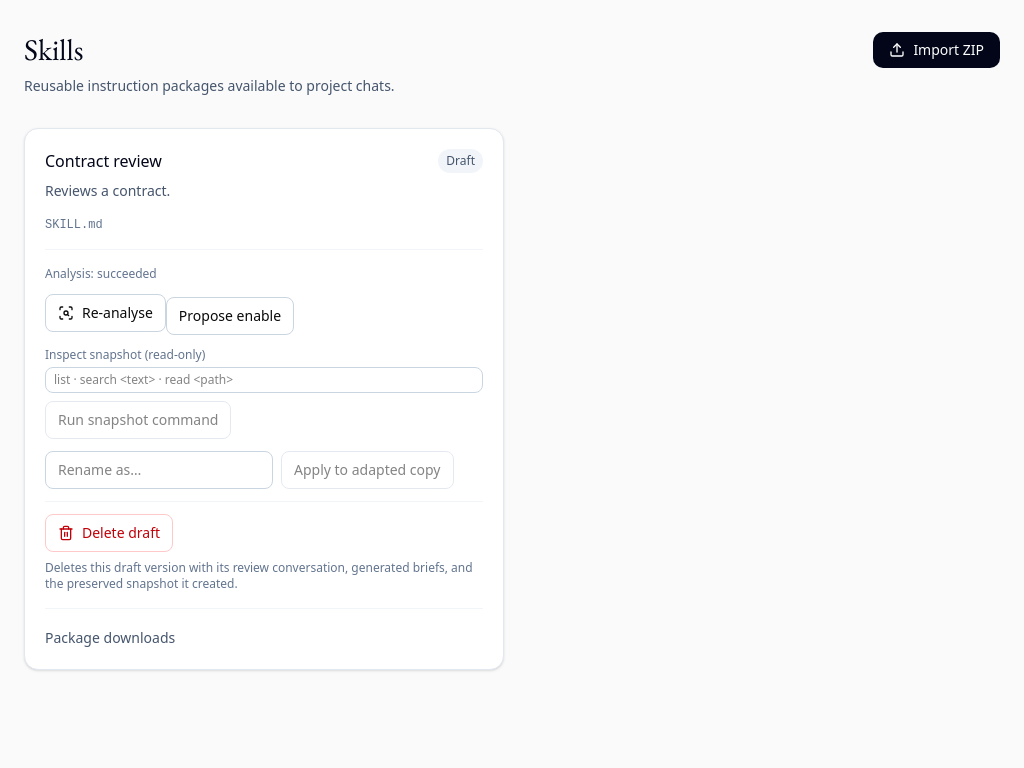
Test: SkillsLibrary › runs a read-only snapshot command and renders its result
Type "list" into the field labelled "Inspect snapshot (read-only)" at x=264, y=380, box [45,367,483,393]
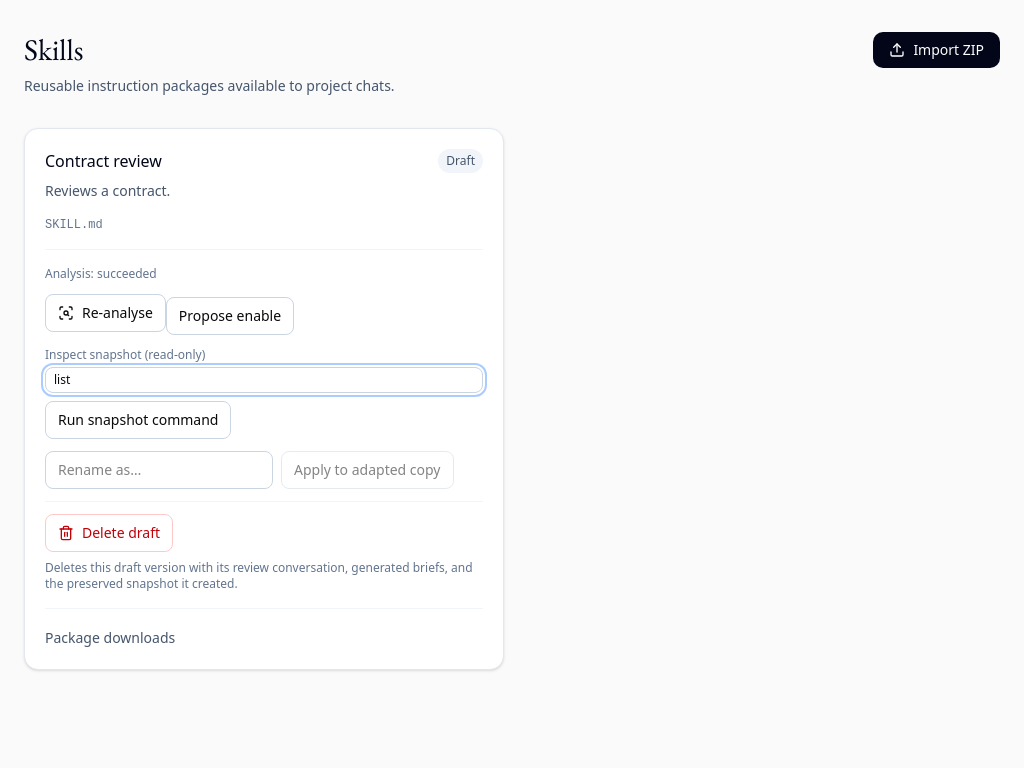
Click the button "Run snapshot command" at x=138, y=420, box [45,401,232,439]
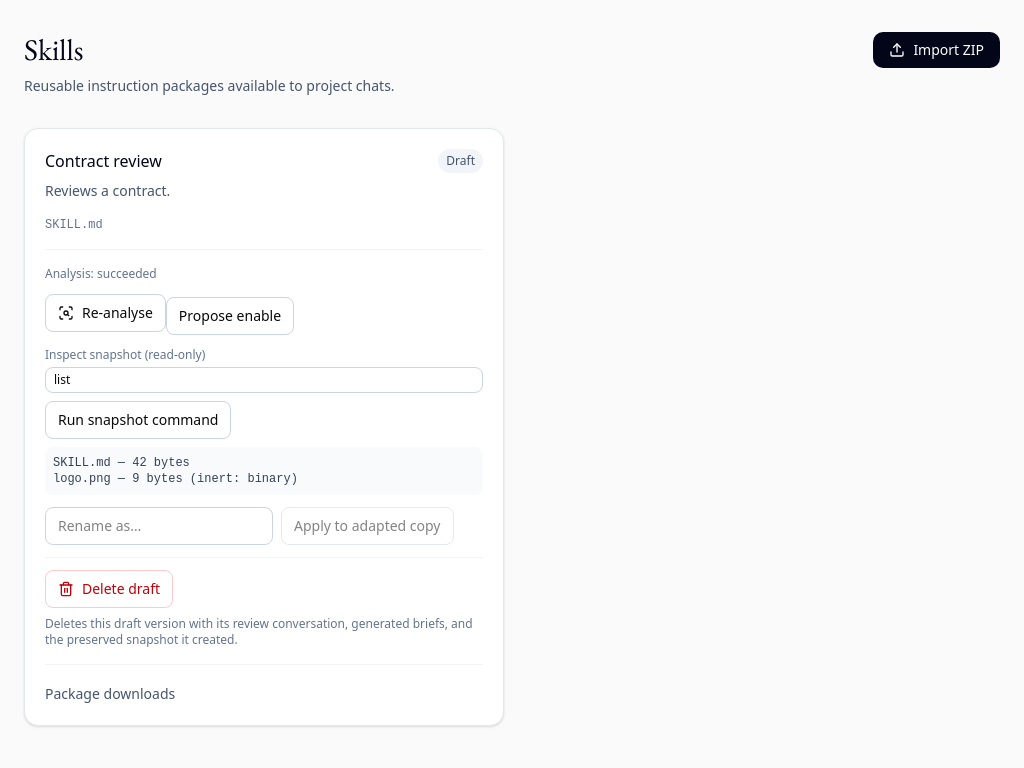
Now the text "SKILL.md — 42 bytes logo.png — 9 bytes (inert: binary)" is shown, box [45,447,483,495]
